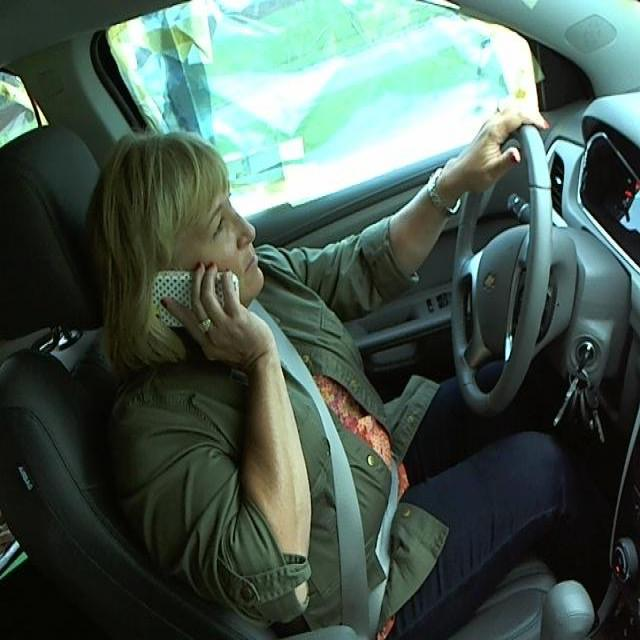using_phone: (92, 165, 300, 379)
